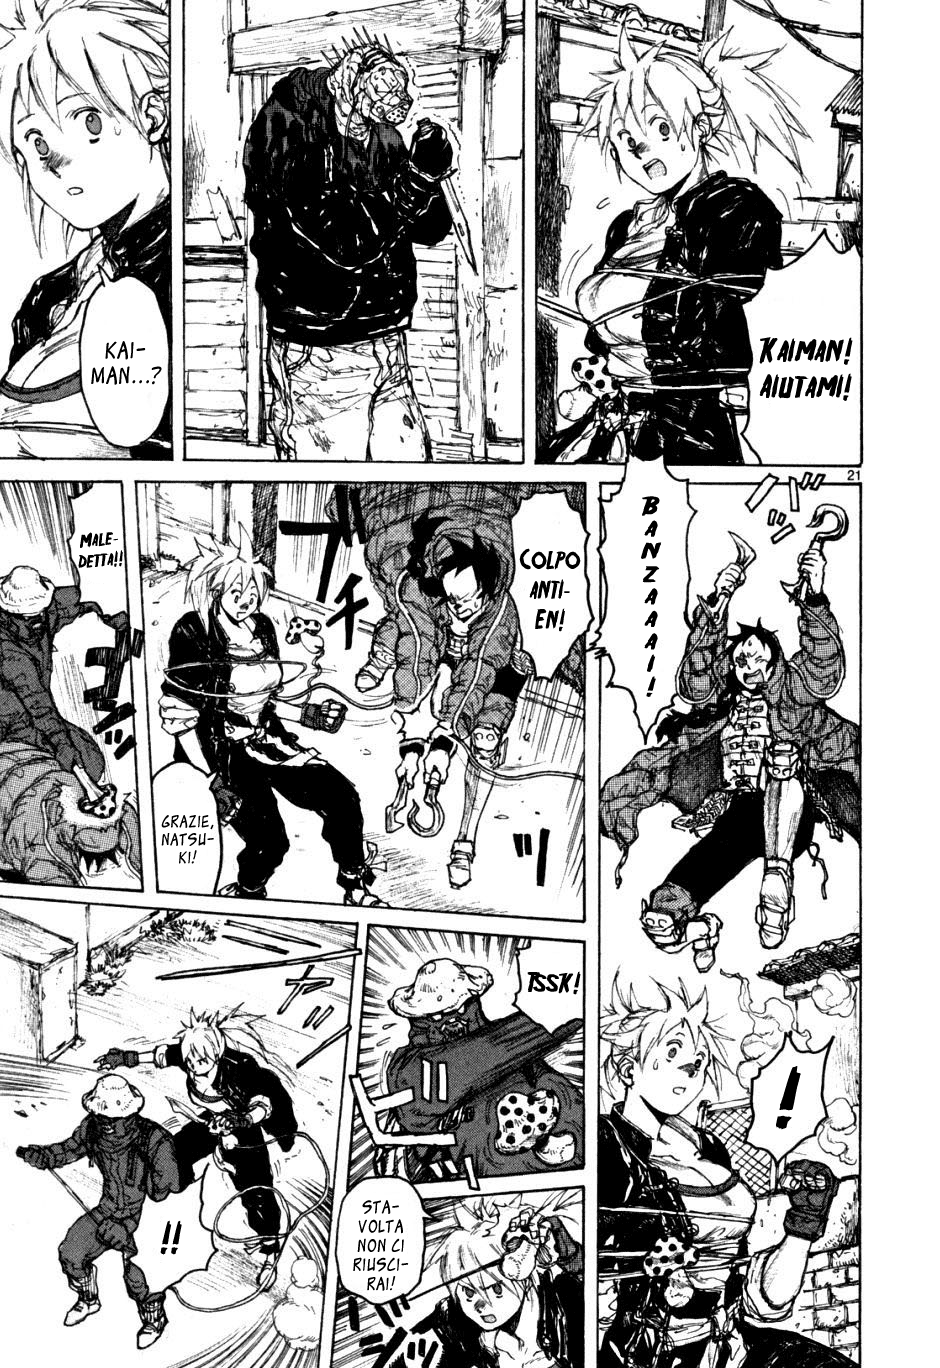Baloon: (596, 454, 696, 752), (740, 232, 865, 461), (77, 261, 169, 446), (506, 490, 592, 682), (336, 1173, 436, 1304), (746, 1029, 834, 1170), (146, 757, 221, 900), (59, 477, 131, 619), (510, 938, 586, 1038)
Vignetta: (592, 482, 867, 1368), (134, 484, 584, 921), (1, 896, 361, 1368), (181, 1, 526, 461), (534, 1, 860, 465), (1, 1, 175, 459), (348, 913, 587, 1186), (1, 475, 143, 893), (329, 1182, 586, 1368)
